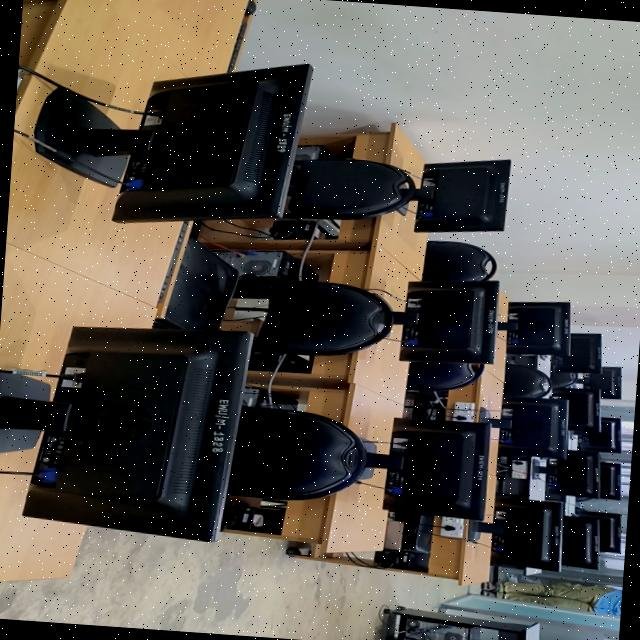Chair: (152, 238, 392, 355), (228, 406, 402, 500), (284, 159, 415, 219), (421, 241, 495, 281), (406, 361, 483, 390), (503, 363, 551, 397)
Cpu: (213, 249, 302, 279), (242, 386, 304, 409), (405, 618, 465, 640), (294, 146, 319, 160)
Monitor: (0, 327, 251, 541), (32, 63, 311, 222), (382, 417, 488, 519), (414, 159, 509, 232), (399, 282, 484, 362), (471, 497, 554, 566), (497, 398, 564, 456), (497, 301, 568, 354), (536, 450, 597, 497), (574, 507, 620, 553), (561, 515, 598, 569), (553, 387, 598, 431), (553, 333, 600, 373), (581, 417, 619, 452), (583, 366, 620, 399), (598, 461, 620, 499)
